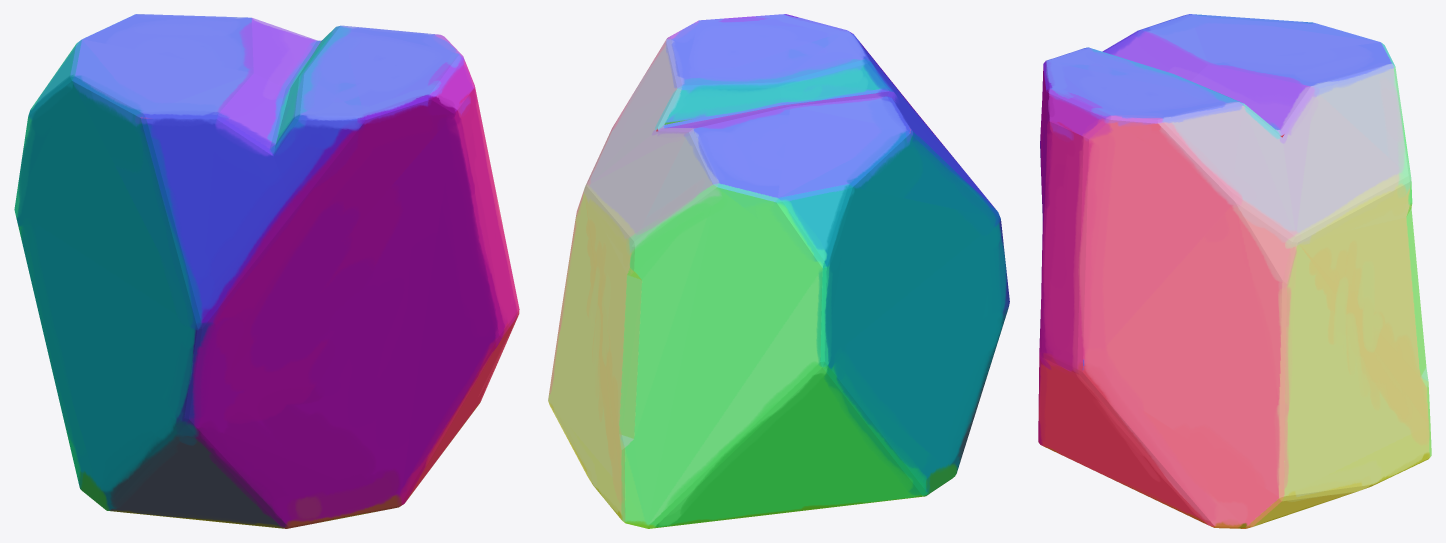
Rendered from rock_round_1.glb.
The picture shows the model from 3 angles, left to right: view 1: azimuth 30°, elevation 25°; view 2: azimuth 150°, elevation 25°; view 3: azimuth 270°, elevation 25°; orthographic projection. The views are drawn at different scales.
Parts seen in each view (by area): view 1: rock_round_1; view 2: rock_round_1; view 3: rock_round_1.
Boxes of the visible parts, left/top/right/bottom form: rock_round_1: left=14, top=14, right=519, bottom=528; rock_round_1: left=548, top=14, right=1009, bottom=528; rock_round_1: left=1038, top=14, right=1431, bottom=528.
Size of the model in its own units: 2.07 by 2.05 by 1.9.
Materials: 1 (1 with a texture image).
